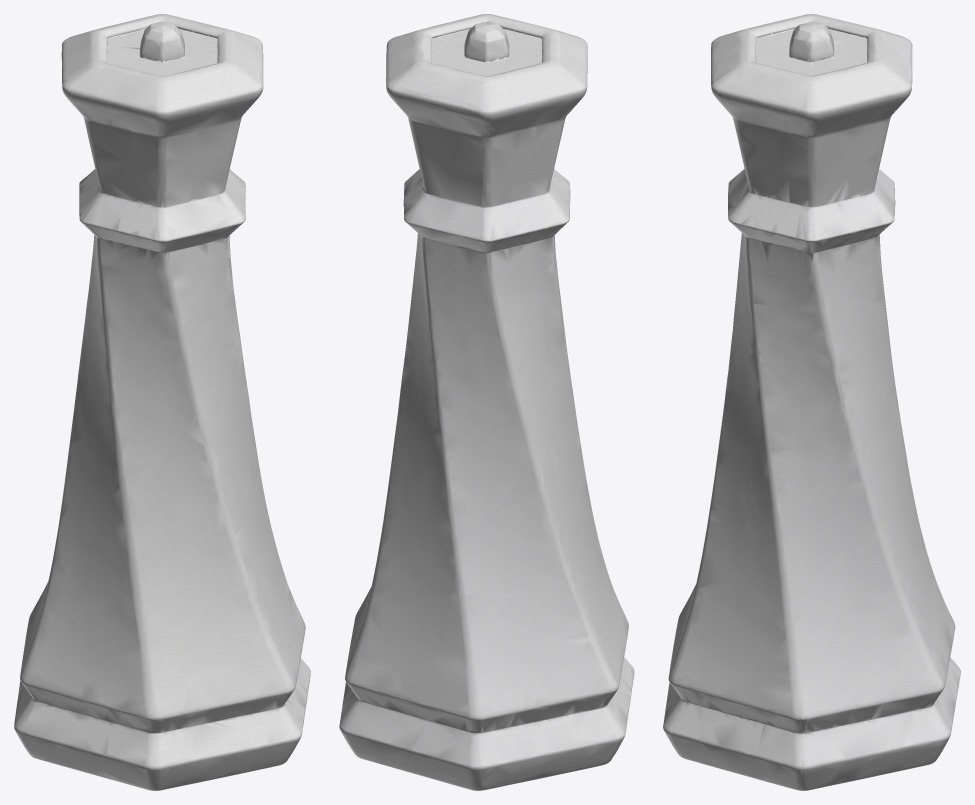
Rendered from queen-white-hd.glb.
The picture shows the model from 3 angles, left to right: view 1: azimuth 30°, elevation 25°; view 2: azimuth 150°, elevation 25°; view 3: azimuth 270°, elevation 25°; orthographic projection.
Bounding box in the file's own units: 0.6061 × 1.45 × 0.5535.
Materials: 1 (1 with a texture image).
